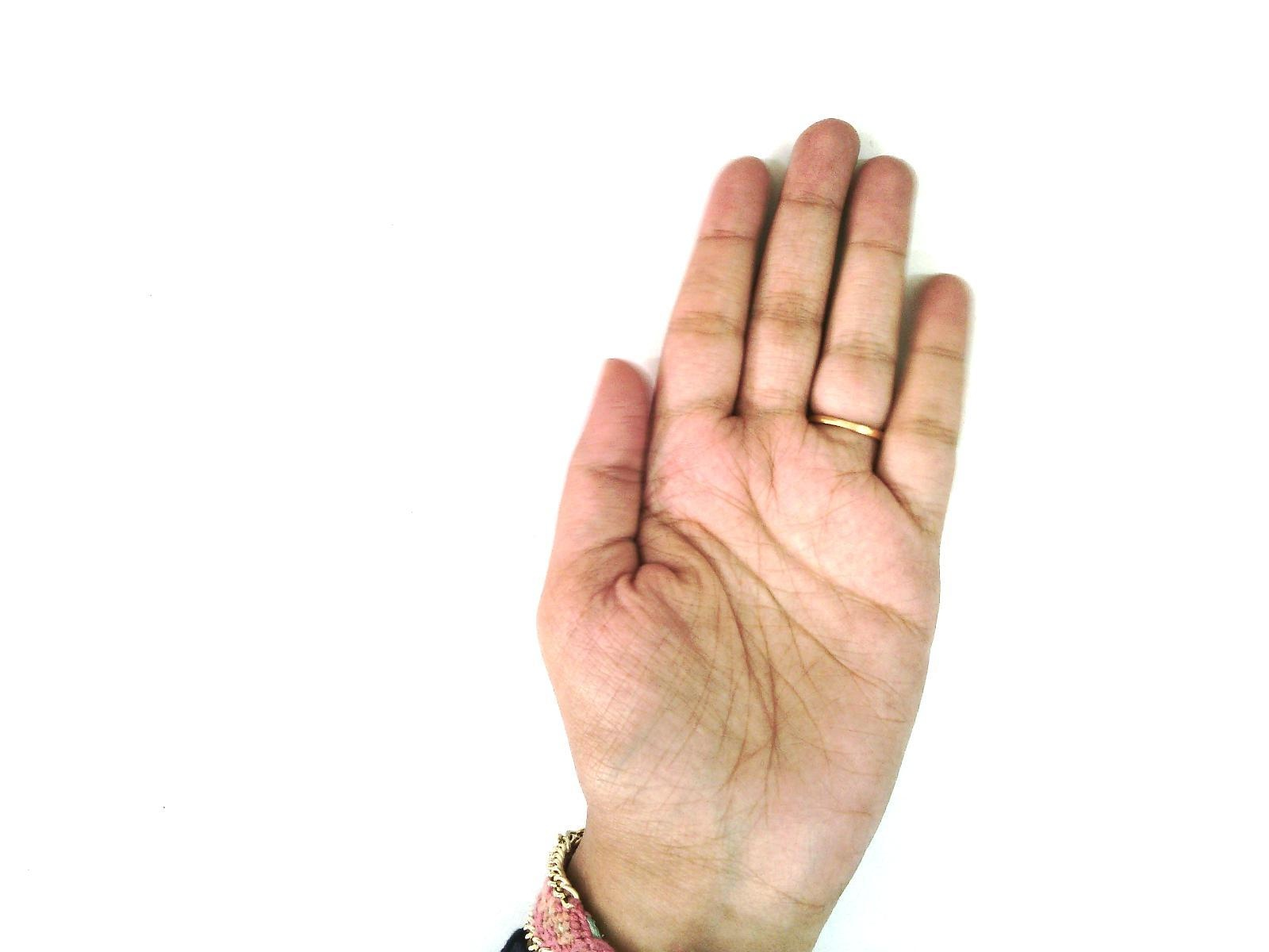open_palm: (529, 117, 977, 950)
